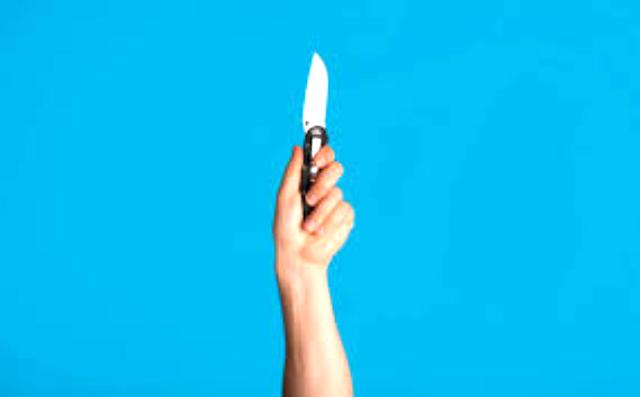pocket-knife: (282, 40, 346, 256)
